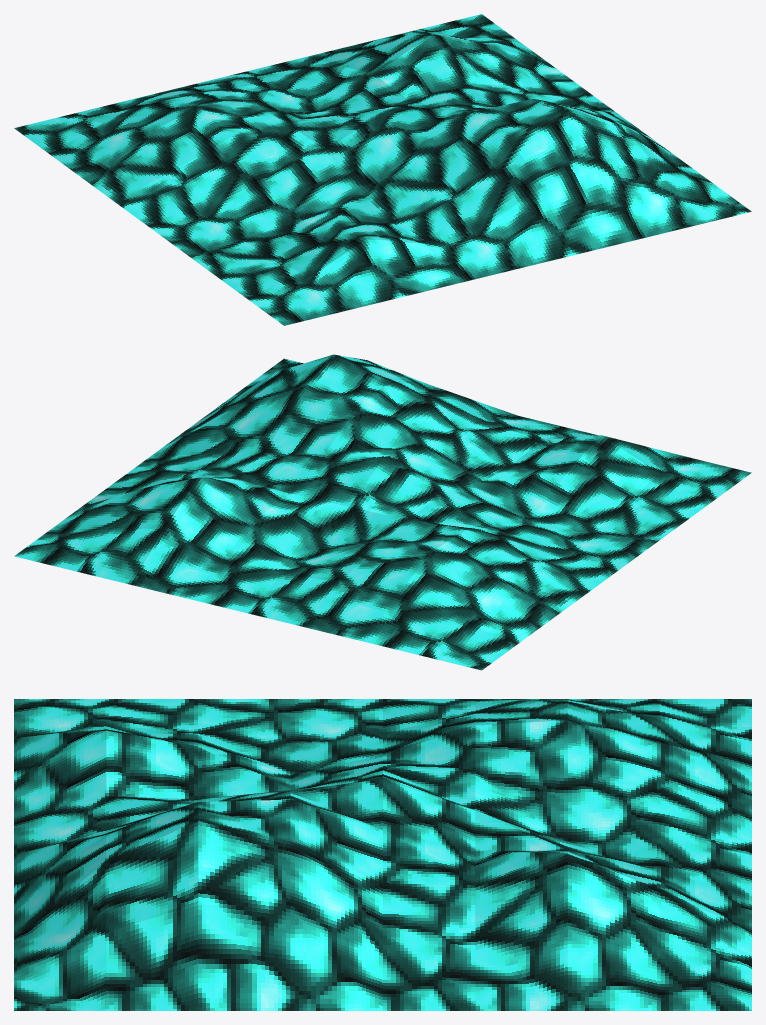
File: Classic64_BlueGemstonePile_Model.fbx
The picture shows the model from 3 angles, top to bottom: view 1: azimuth 30°, elevation 25°; view 2: azimuth 150°, elevation 25°; view 3: azimuth 270°, elevation 25°; orthographic projection. The views are drawn at different scales.
Visible parts, largest first — view 1: Classic64_BlueGemstonePile_Part000; view 2: Classic64_BlueGemstonePile_Part000; view 3: Classic64_BlueGemstonePile_Part000.
Part boxes in pixels (x1,y1,x2,y2): Classic64_BlueGemstonePile_Part000: (14,14,751,325); Classic64_BlueGemstonePile_Part000: (14,354,751,670); Classic64_BlueGemstonePile_Part000: (14,699,751,1010).
Size of the model in its own units: 1.22 by 0.2087 by 1.22.
1 material, 1 textured.
